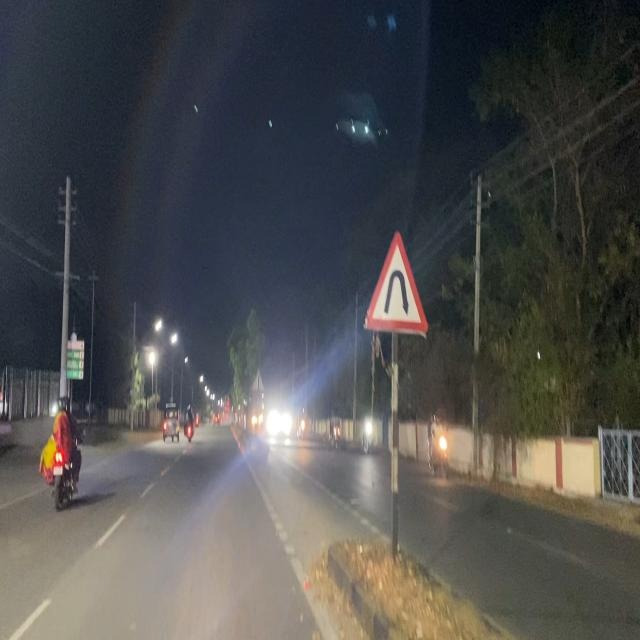bien_nguy_hiem: (364, 224, 428, 337)
